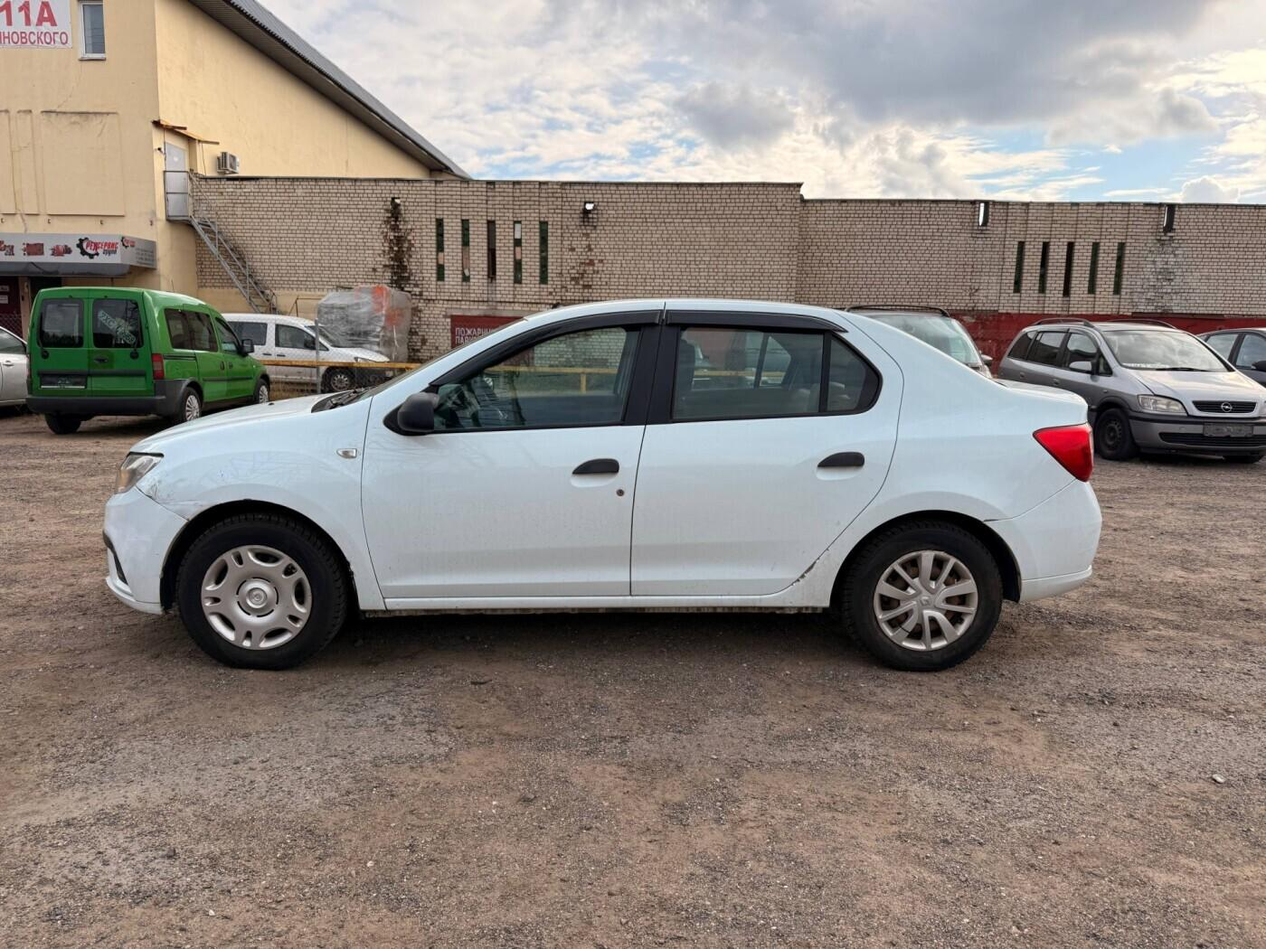Logan_2018: (98, 288, 1108, 683)
